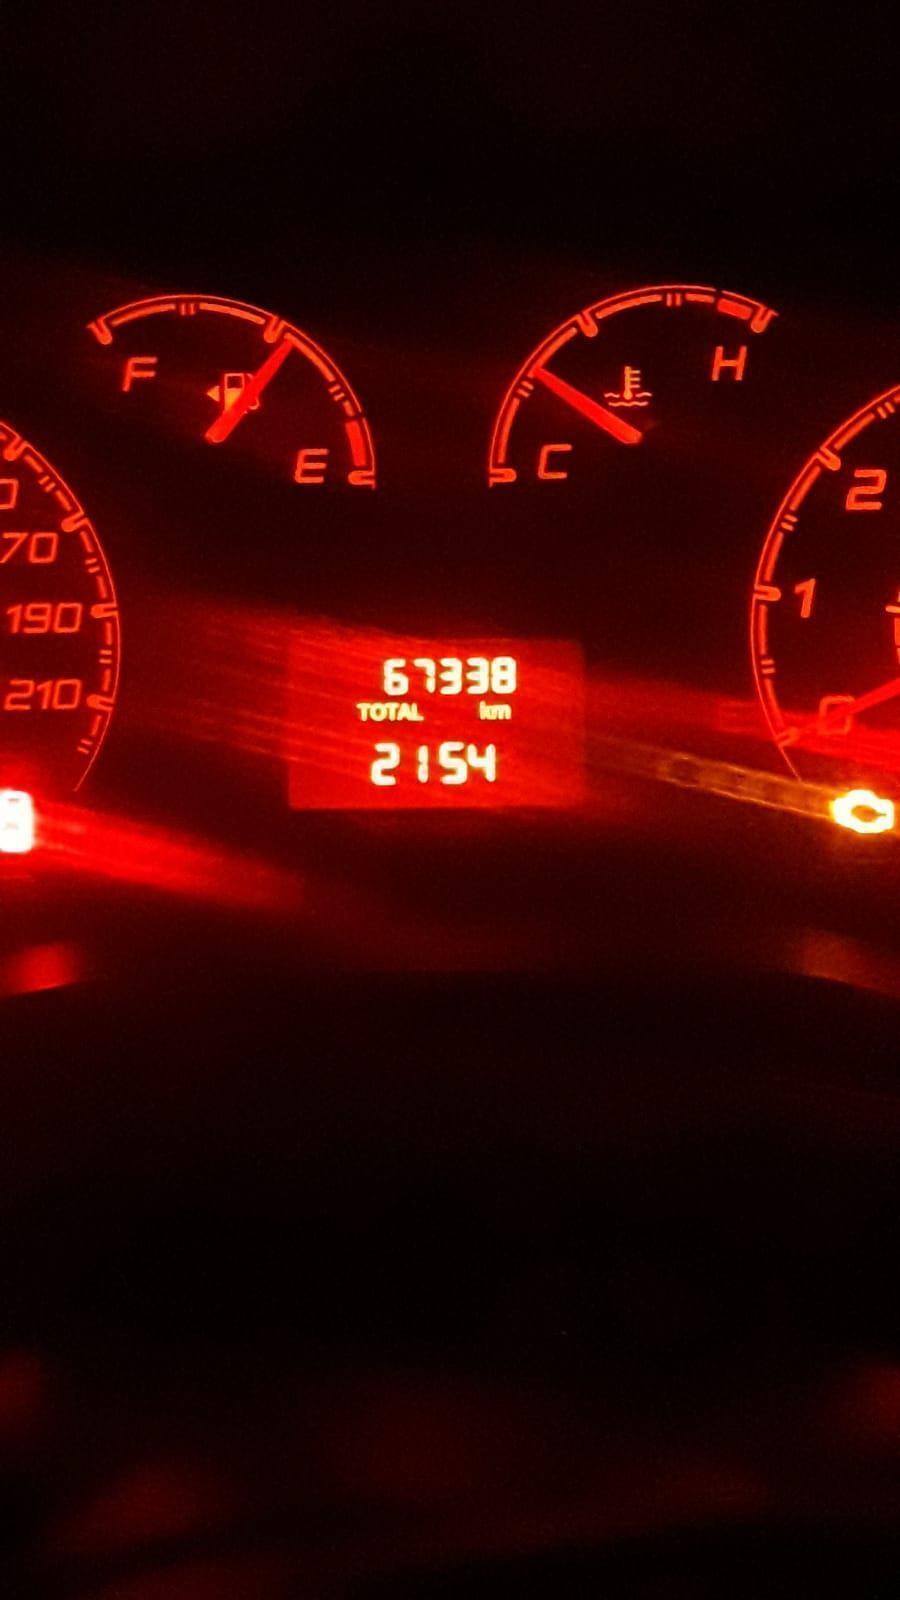1: (416, 743, 429, 784)
2: (368, 741, 401, 787)
3: (465, 656, 489, 695), (438, 657, 463, 695)
4: (466, 743, 497, 784)
5: (437, 740, 468, 785)
6: (382, 658, 409, 696)
7: (412, 657, 436, 695)
8: (490, 655, 516, 695)
X: (368, 702, 387, 722), (490, 703, 511, 720), (396, 702, 412, 721), (384, 702, 400, 721), (355, 702, 371, 721), (410, 702, 424, 721), (479, 700, 491, 720)
odometer: (284, 633, 592, 815)
